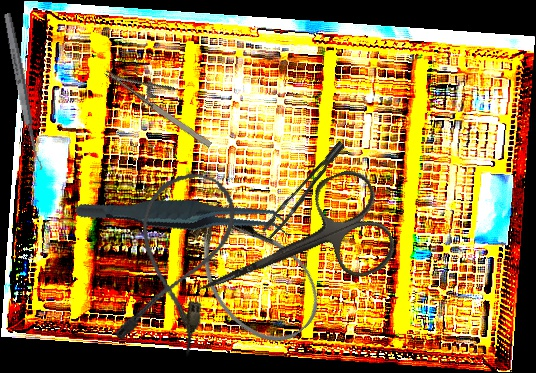Cannula: (169, 186, 336, 361), (107, 160, 246, 362)
Iris Scissors: (177, 163, 402, 337)
Needle Holder: (104, 49, 225, 151)
Surgical Spoon: (1, 12, 44, 172)
Tissue Forceps: (73, 156, 295, 276), (253, 140, 357, 240)
